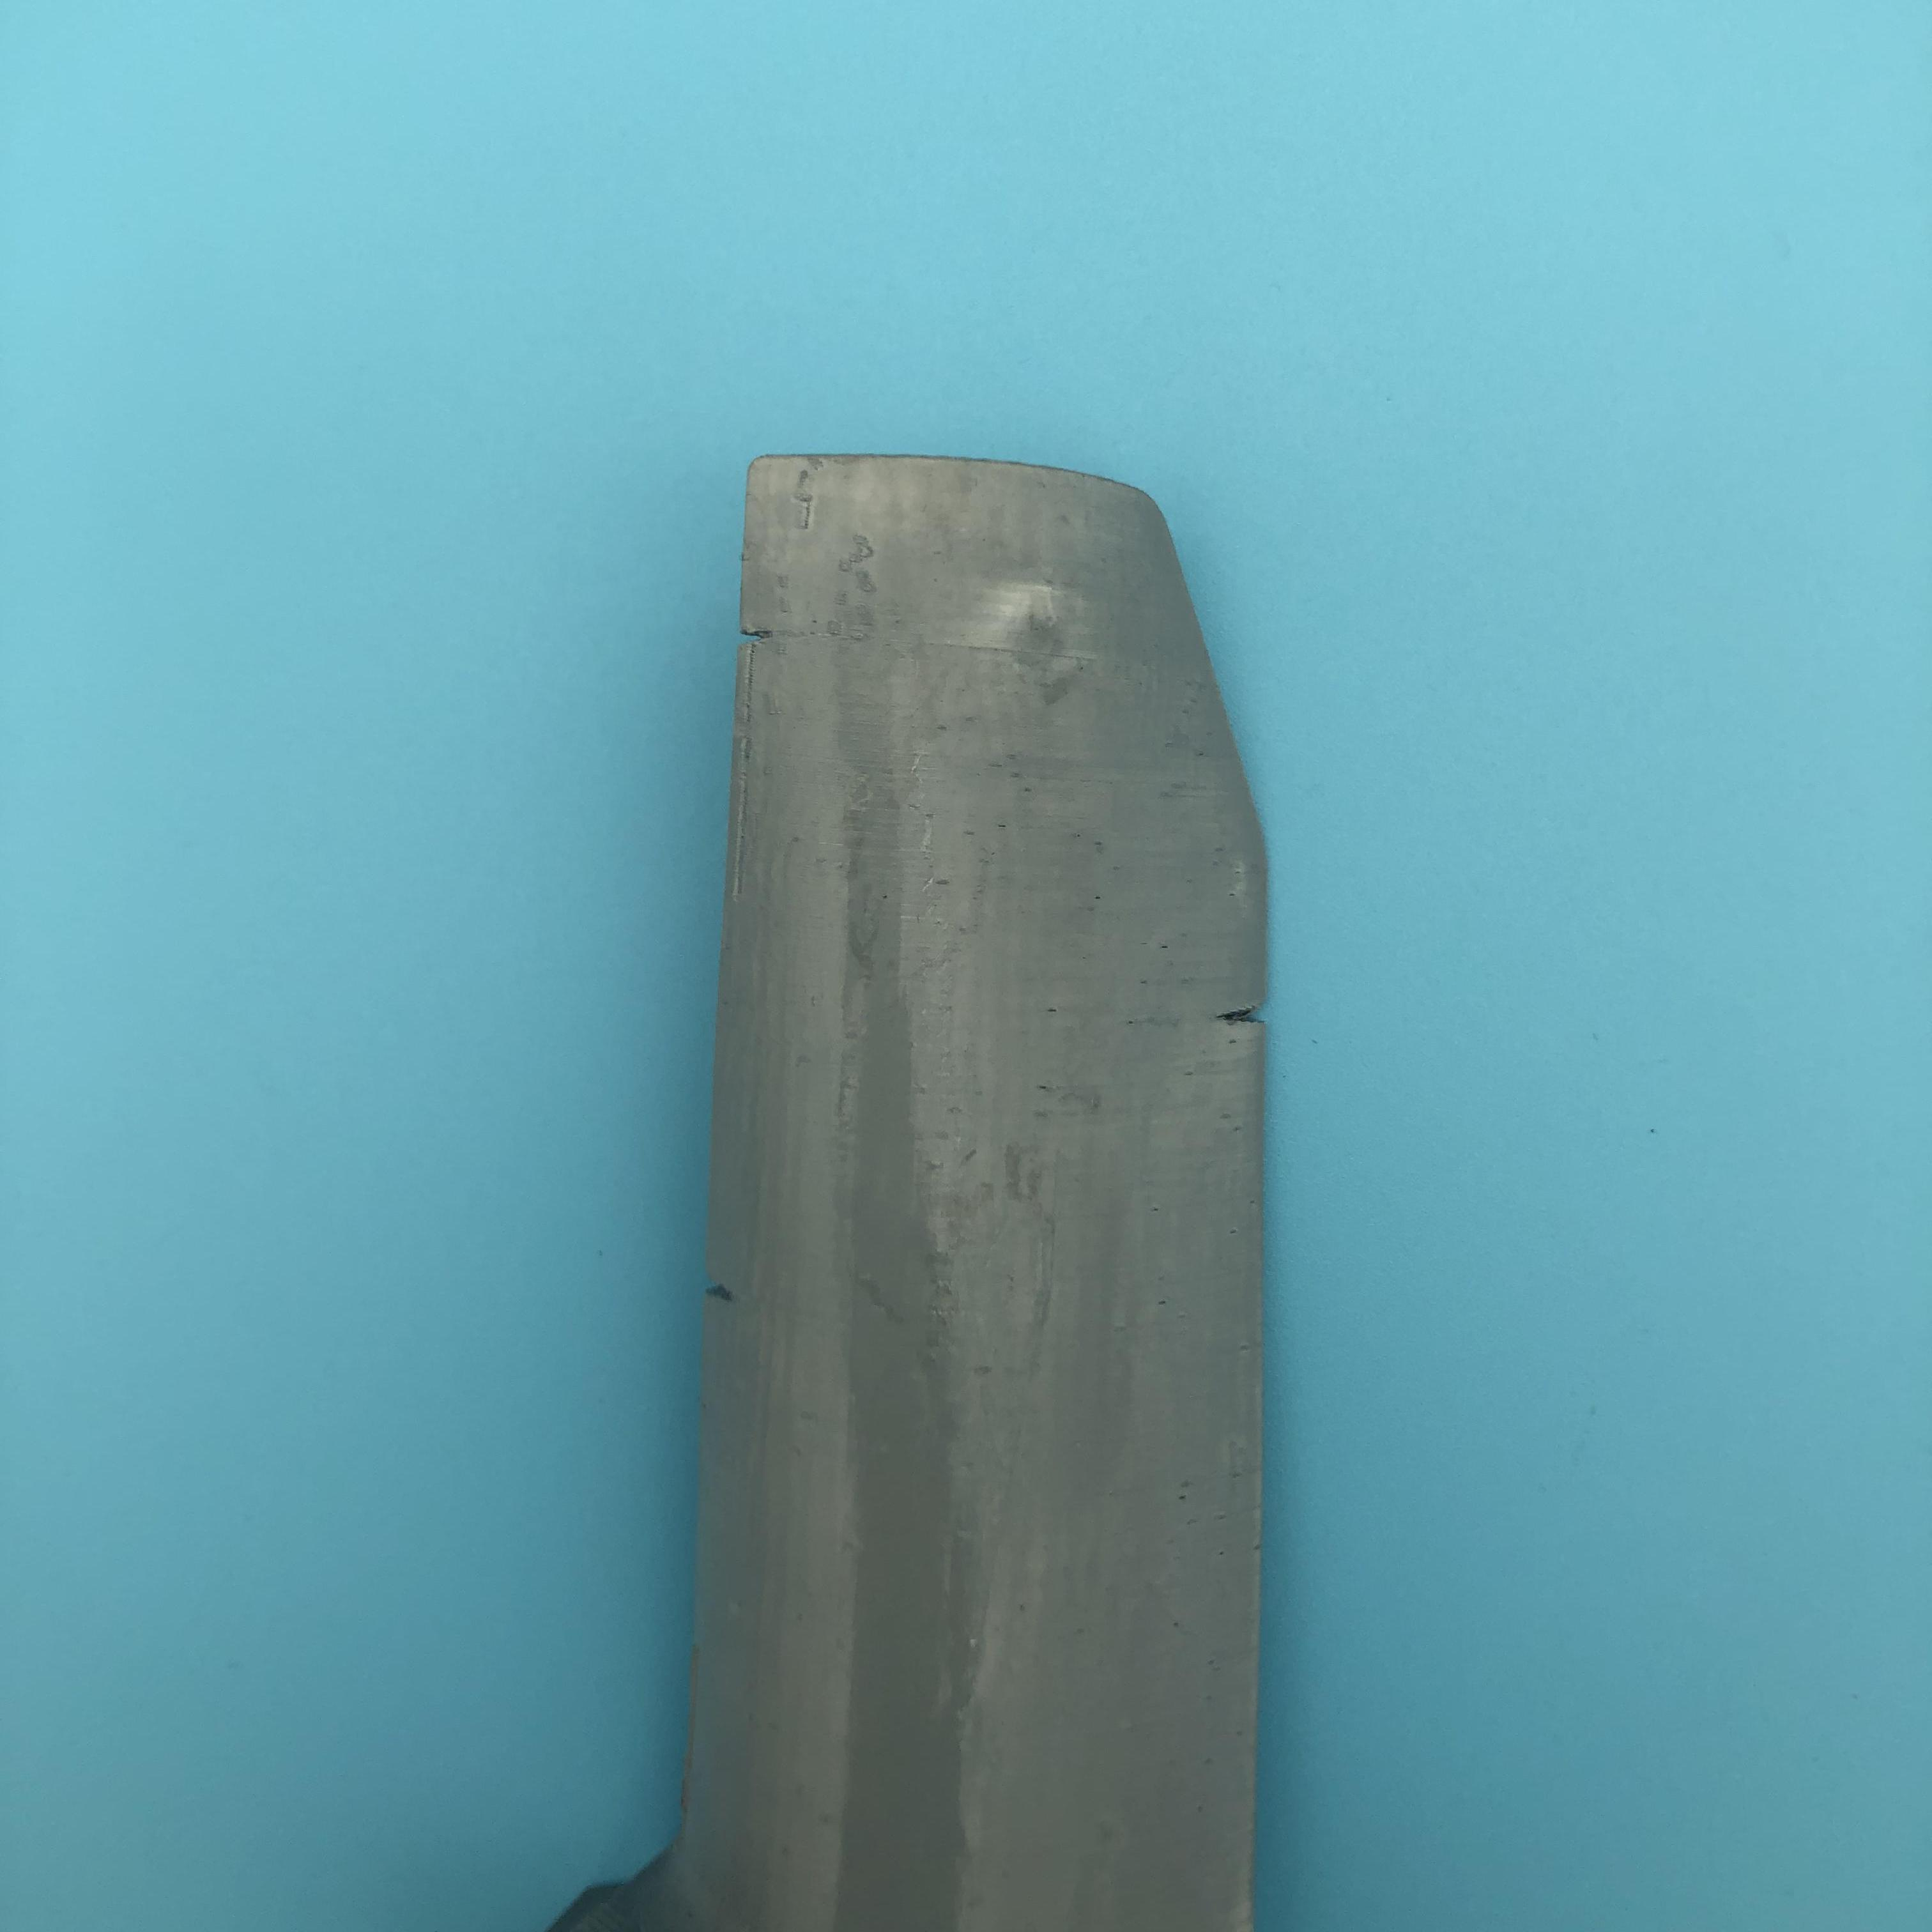groove: (1217, 993, 1267, 1033), (740, 614, 775, 653), (708, 1274, 745, 1306)
